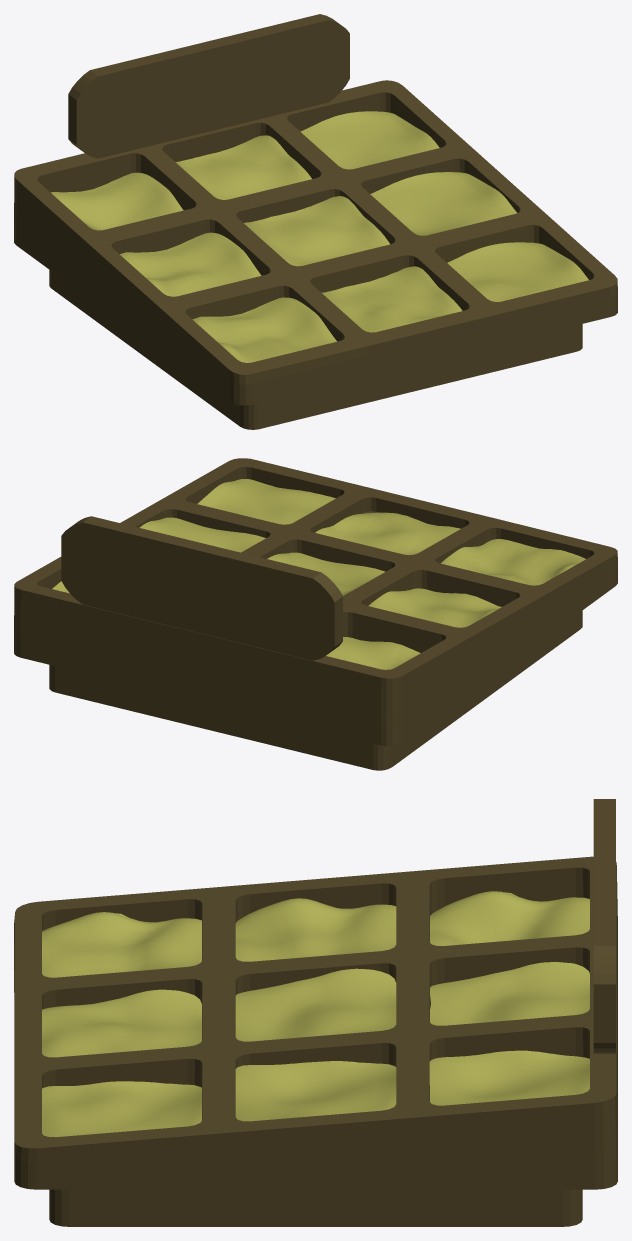
File: ejder-devekusu_tezgah_3.fbx
3 views of the same model, one above another, from view 1: azimuth 30°, elevation 25°; view 2: azimuth 150°, elevation 25°; view 3: azimuth 270°, elevation 25° (orthographic). The views are drawn at different scales.
Visible parts, largest first — view 1: Plane.015, Plane.016, Cube.010, Plane.017; view 2: Plane.015, Cube.010, Plane.016, Plane.017; view 3: Plane.015, Plane.016, Plane.017, Cube.010.
Boxes of the visible parts, left/top/right/bottom form: Plane.015: left=14, top=80, right=617, bottom=405; Plane.016: left=51, top=111, right=588, bottom=362; Cube.010: left=68, top=14, right=349, bottom=158; Plane.017: left=49, top=270, right=582, bottom=429; Plane.015: left=14, top=458, right=617, bottom=746; Cube.010: left=61, top=516, right=342, bottom=660; Plane.016: left=52, top=479, right=585, bottom=669; Plane.017: left=49, top=610, right=582, bottom=770; Plane.015: left=14, top=856, right=617, bottom=1189; Plane.016: left=42, top=891, right=589, bottom=1137; Plane.017: left=49, top=1189, right=582, bottom=1226; Cube.010: left=593, top=799, right=615, bottom=1053.
Bounding box in the file's own units: 429 × 201 × 444.
